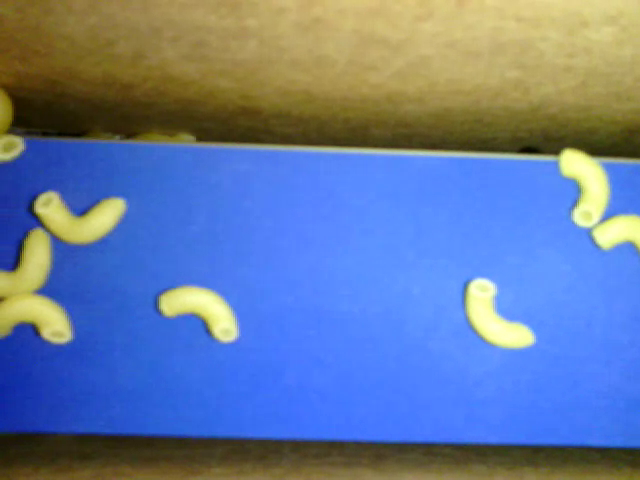elbow: (463, 277, 536, 355), (31, 189, 124, 245), (159, 285, 242, 346), (558, 144, 608, 229), (1, 292, 75, 348), (2, 227, 53, 297), (589, 211, 639, 256), (2, 90, 28, 161)
